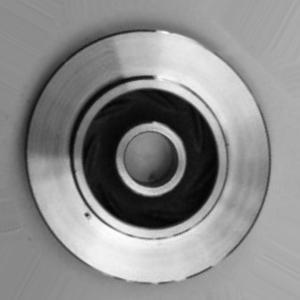defect: (74, 198, 99, 229)
